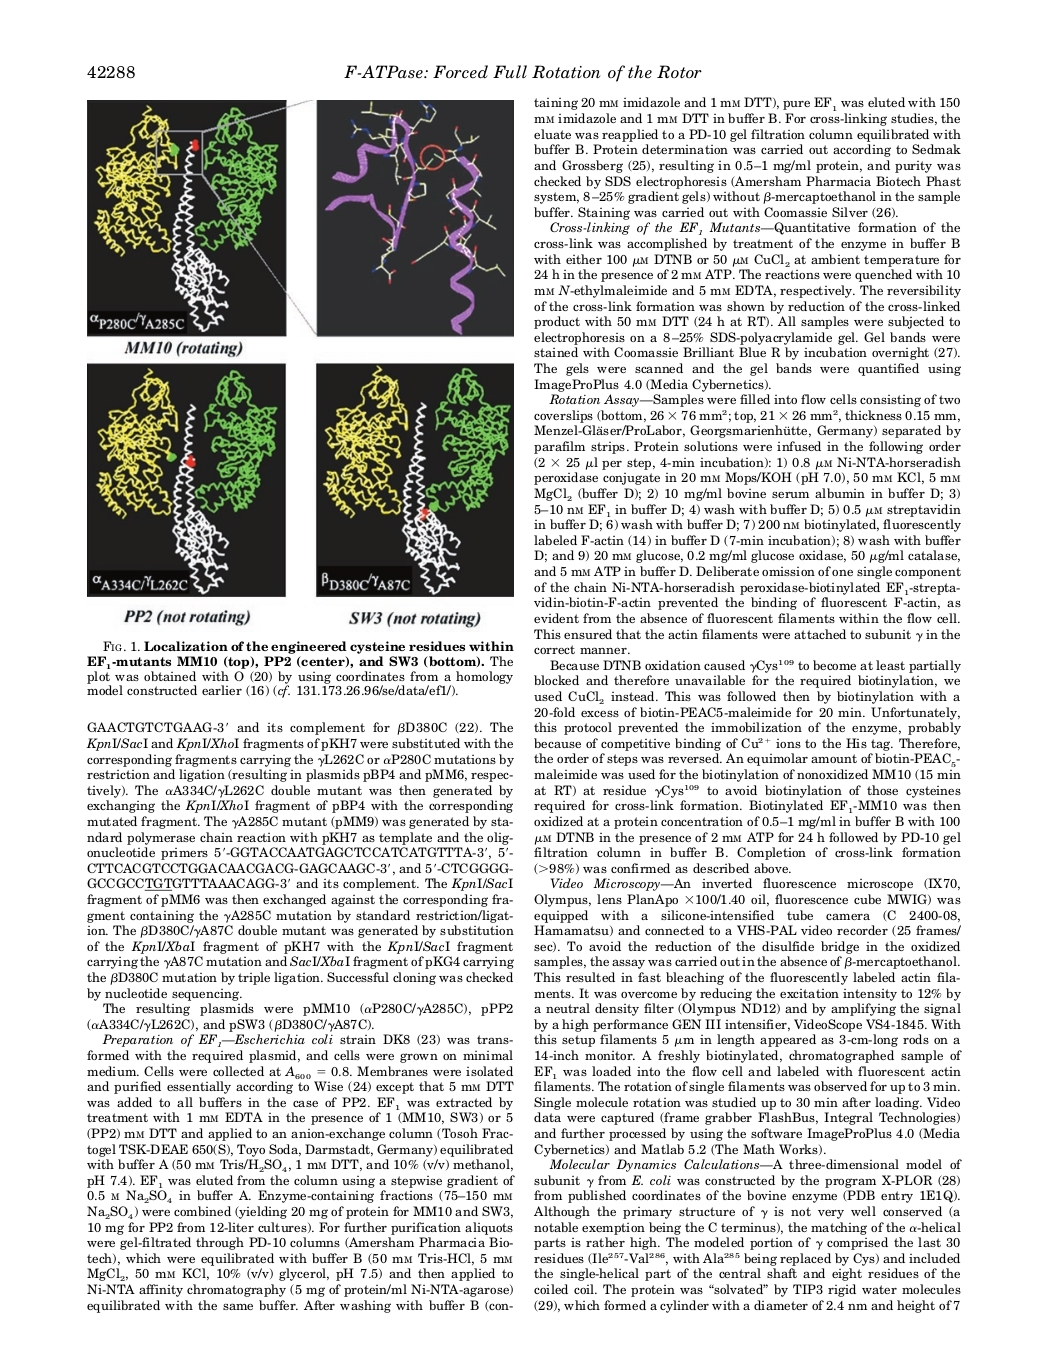figure: (87, 99, 513, 337), (87, 363, 513, 598)
